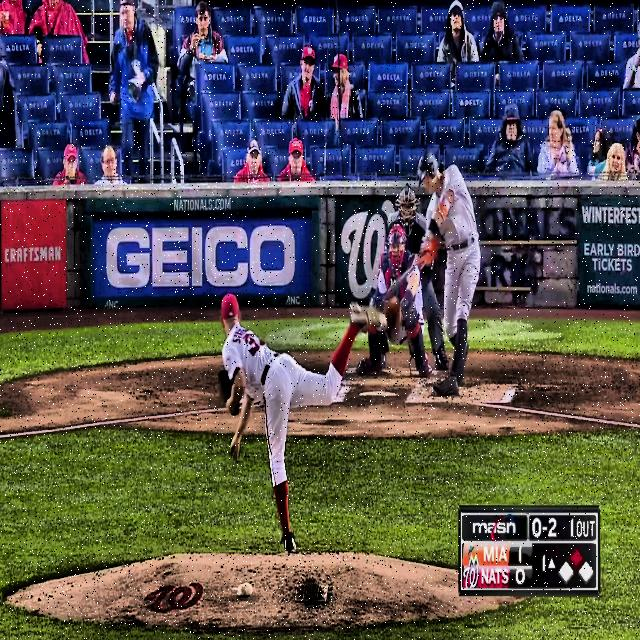baseball: (380, 313, 389, 332)
